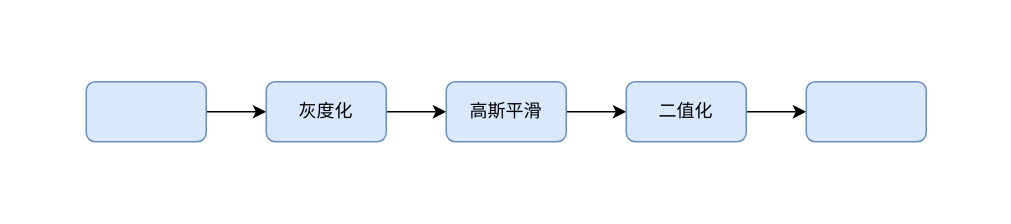
Image size: 1011x224. Some labels were removed from this diagram. Here are the shapes that lost their labels. From the top down, the centre of each, then its label:
(x=145, y=111): 输入图像
(x=865, y=111): 轮廓提取
